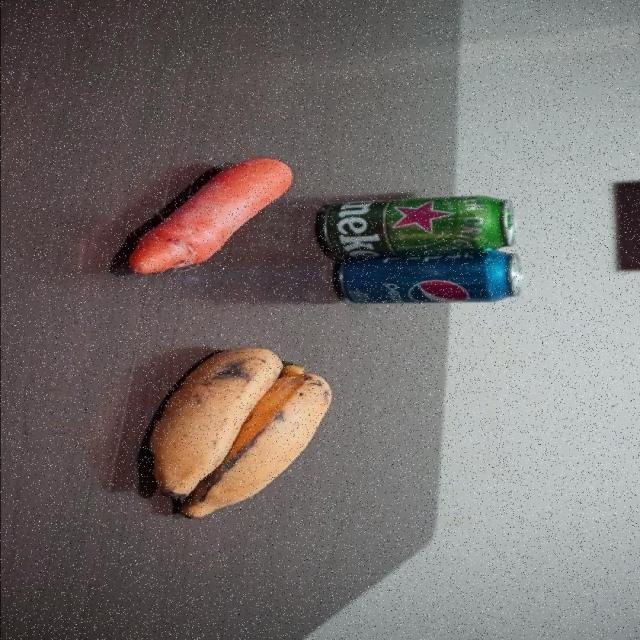Banana: (146, 346, 332, 520)
BeerCan: (316, 196, 516, 258)
Carrot: (124, 158, 295, 275)
SodaCan: (330, 249, 522, 305)
